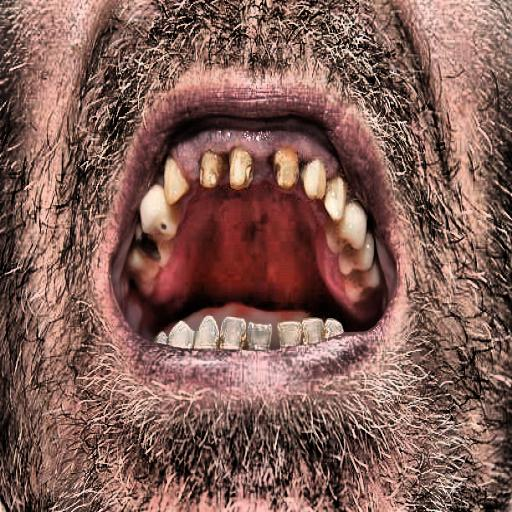Gingivitis: (165, 114, 336, 172)
